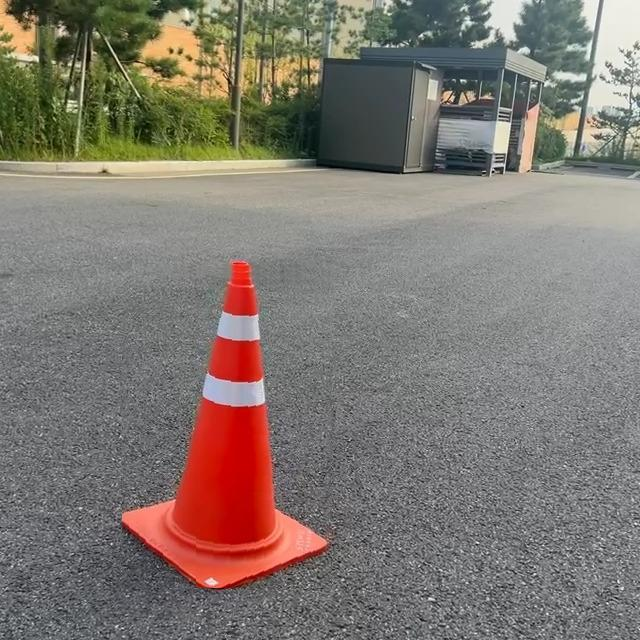fallen_object: (127, 273, 385, 593)
